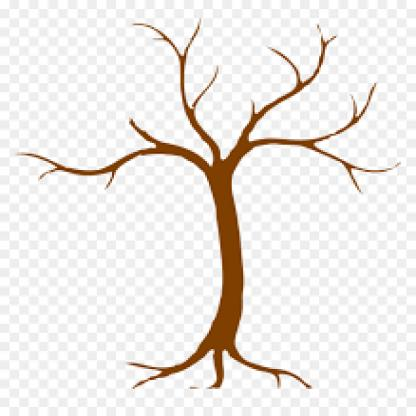branch_sharp: (9, 11, 404, 192)
root_only: (124, 340, 315, 394)
trunk_straight: (212, 234, 254, 303)
